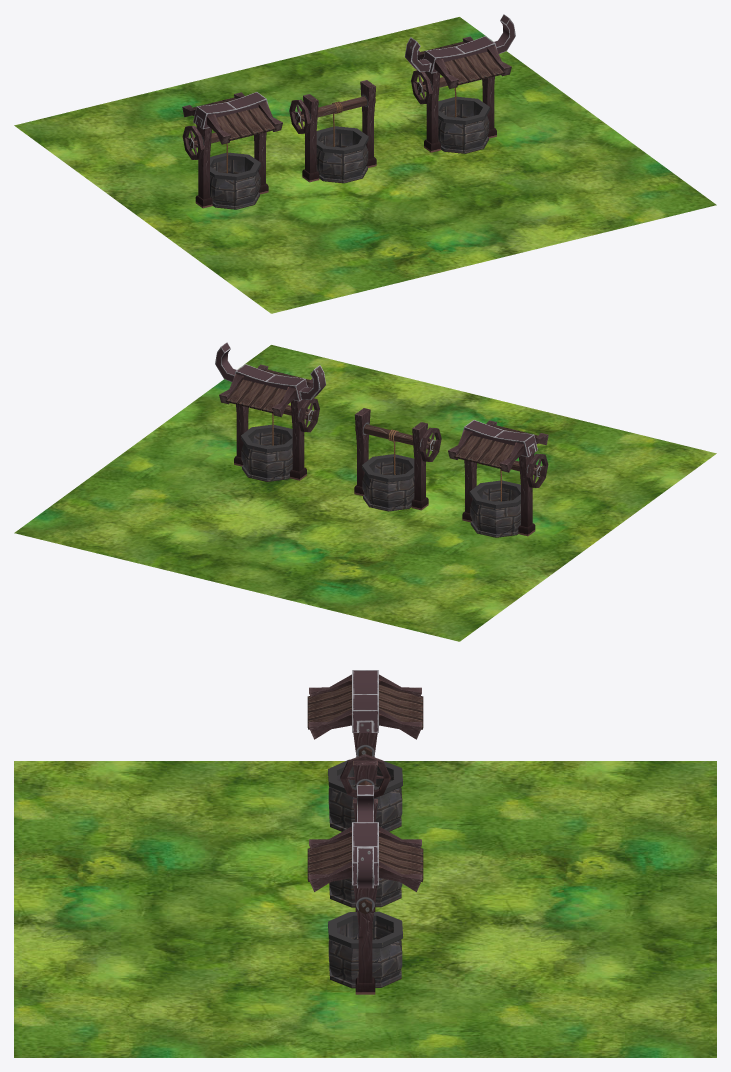
File: Brunnen.fbx
The picture shows the model from 3 angles, top to bottom: view 1: azimuth 30°, elevation 25°; view 2: azimuth 150°, elevation 25°; view 3: azimuth 270°, elevation 25°; orthographic projection. The views are drawn at different scales.
Parts seen in each view (by area): view 1: pPlane1, roof_ornament (×2), stempen3 (×3), brunnen5, brunnen, brunnen6, stempen1 (×2), stempen4, polySurface1; view 2: pPlane1, roof_ornament (×2), stempen3 (×3), brunnen5, brunnen, brunnen6, stempen1 (×2), stempen4, polySurface1; view 3: pPlane1, brunnen, roof_ornament (×2), brunnen6, stempen1, brunnen5, dachshalter2, dachshalter4, rad, dachshalter1, dachshalter3.
Boxes of the visible parts, <box> form: pPlane1: <box>14,17,716,313</box>; roof_ornament (×2): <box>193,14,515,129</box>; stempen3 (×3): <box>195,71,440,208</box>; brunnen5: <box>316,126,368,183</box>; brunnen: <box>438,96,489,153</box>; brunnen6: <box>210,152,260,209</box>; stempen1 (×2): <box>254,76,496,194</box>; stempen4: <box>360,80,376,167</box>; polySurface1: <box>295,96,375,122</box>; pPlane1: <box>14,345,716,641</box>; roof_ornament (×2): <box>215,342,537,457</box>; stempen3 (×3): <box>290,399,535,536</box>; brunnen5: <box>362,454,414,511</box>; brunnen: <box>241,424,292,481</box>; brunnen6: <box>469,480,520,537</box>; stempen1 (×2): <box>234,404,476,522</box>; stempen4: <box>354,408,370,495</box>; polySurface1: <box>355,424,435,450</box>; pPlane1: <box>14,761,716,1057</box>; brunnen: <box>328,911,402,988</box>; roof_ornament (×2): <box>352,670,378,888</box>; brunnen6: <box>328,759,402,831</box>; stempen1: <box>353,885,377,994</box>; brunnen5: <box>329,878,402,907</box>; dachshalter2: <box>309,861,421,891</box>; dachshalter4: <box>309,709,421,739</box>; rad: <box>340,754,390,798</box>; dachshalter1: <box>309,826,421,848</box>; dachshalter3: <box>309,674,421,696</box>.
Bounding box in the file's own units: 82.9 × 20.33 × 82.9.
3 materials, 2 textured.
